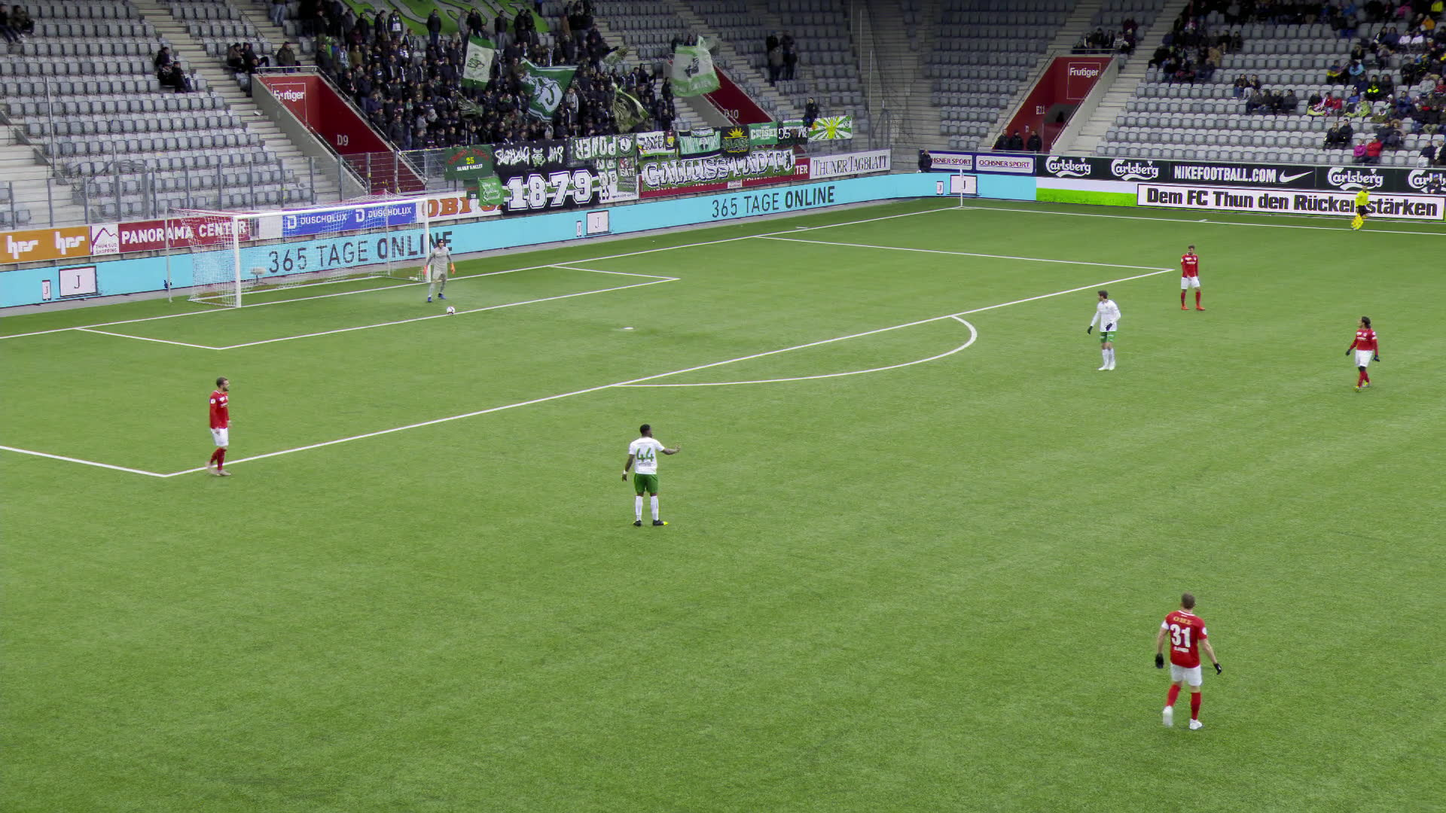ball: (445, 304, 456, 315)
player: (1154, 590, 1223, 730), (620, 422, 682, 527), (197, 375, 237, 477), (1086, 288, 1123, 371), (1345, 312, 1380, 392), (422, 236, 456, 303), (1177, 243, 1203, 311)
referee: (1347, 183, 1373, 231)
